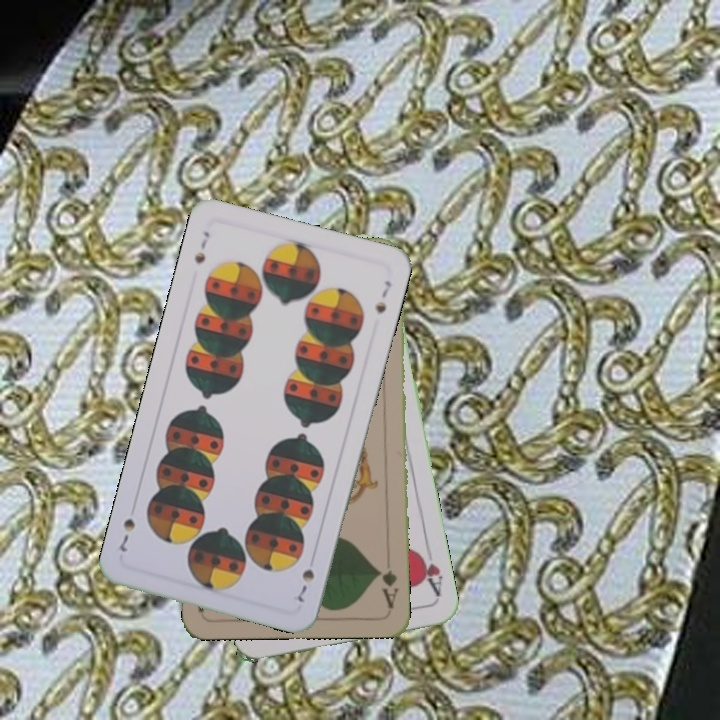GA: (374, 566, 401, 611)
HA: (413, 547, 446, 600)
S7: (293, 565, 317, 605), (190, 227, 212, 267)
